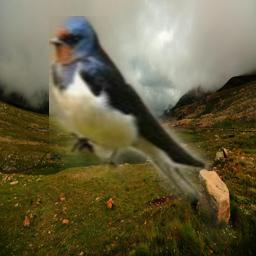Swallow: (49, 16, 234, 244)
